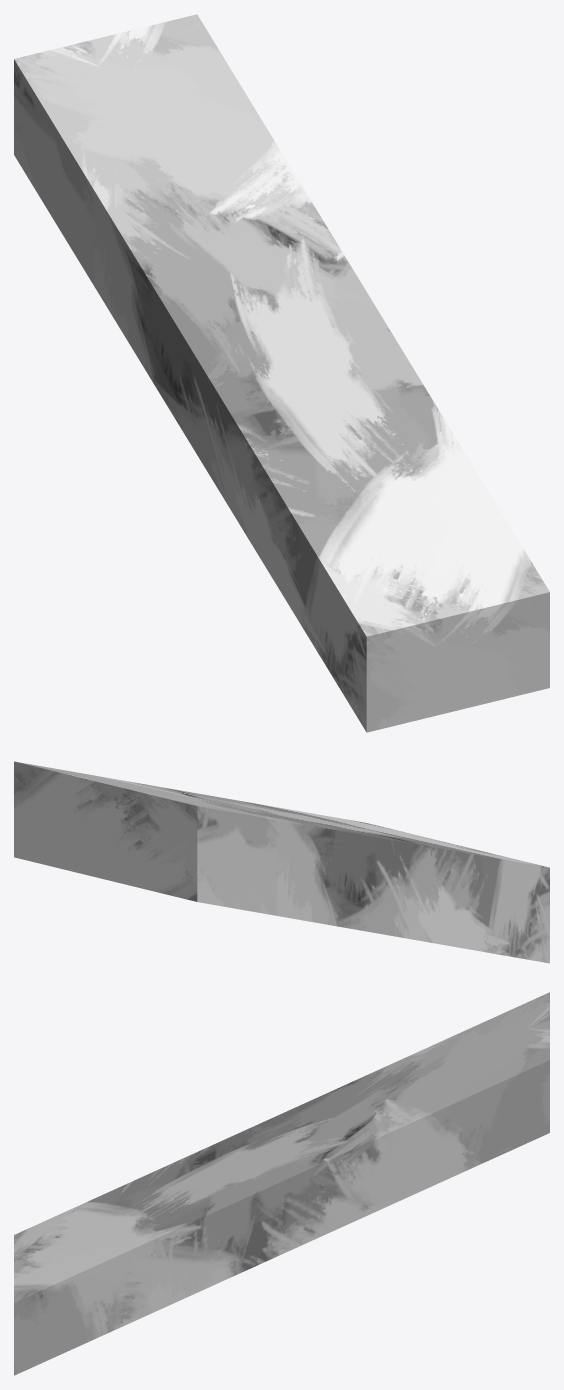
Rendered from Village_Clay_Ledge_Right_A.fbx.
3 views of the same model, one above another, from view 1: azimuth 30°, elevation 25°; view 2: azimuth 150°, elevation 25°; view 3: azimuth 270°, elevation 25° (orthographic). The views are drawn at different scales.
Parts seen in each view (by area): view 1: Village_Wall_2m_Roof_A.221; view 2: Village_Wall_2m_Roof_A.221; view 3: Village_Wall_2m_Roof_A.221.
Boxes of the visible parts, x1,y1,x2,y2 form: Village_Wall_2m_Roof_A.221: (14, 14, 549, 732); Village_Wall_2m_Roof_A.221: (14, 761, 549, 963); Village_Wall_2m_Roof_A.221: (14, 992, 549, 1375).
Size of the model in its own units: 30 by 65 by 100.
